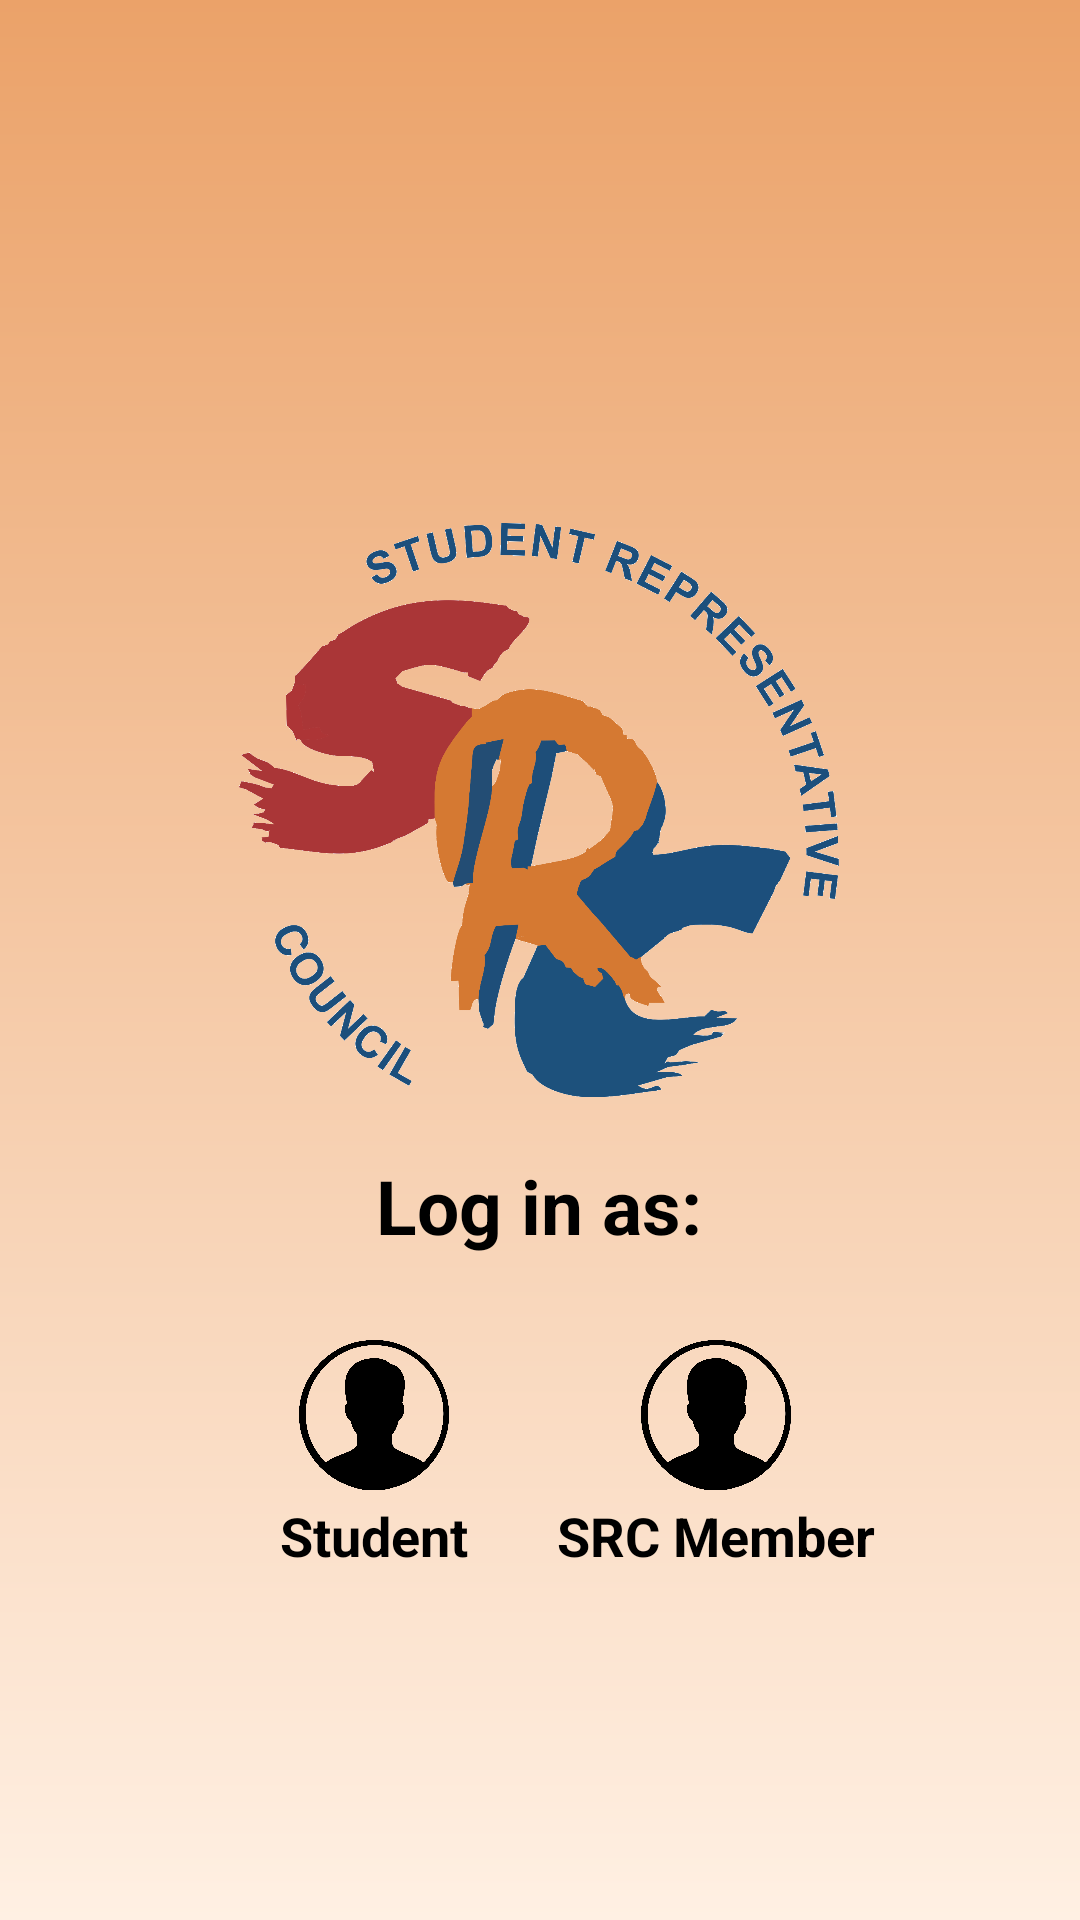

Icons on this 1080px×1920px Android screen, each with its box as (x1, y1, x2, y2):
user: (299, 1340, 449, 1490), (641, 1340, 791, 1490)
